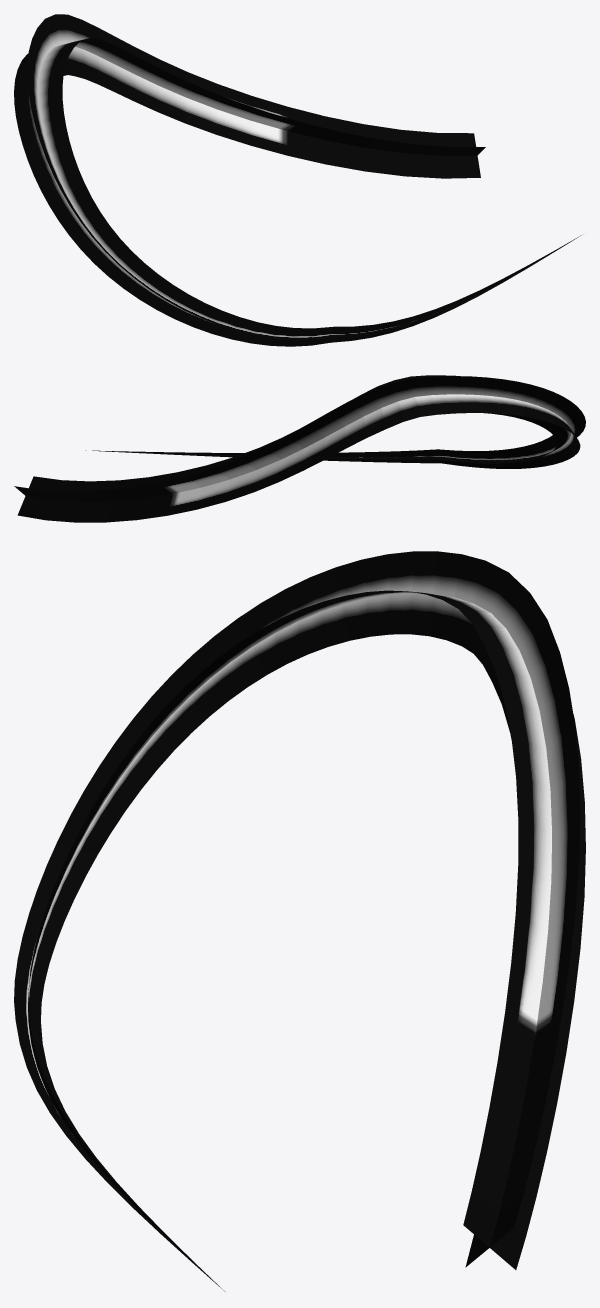
Rendered from TypeZero5.fbx.
3 views of the same model, one above another, from view 1: azimuth 30°, elevation 25°; view 2: azimuth 150°, elevation 25°; view 3: azimuth 270°, elevation 25° (orthographic). The views are drawn at different scales.
Visible parts, largest first — view 1: SM_WEP_Eff_D61NJ1_A_05.mo; view 2: SM_WEP_Eff_D61NJ1_A_05.mo; view 3: SM_WEP_Eff_D61NJ1_A_05.mo.
Boxes of the visible parts, x1,y1,x2,y2 form: SM_WEP_Eff_D61NJ1_A_05.mo: [14, 14, 581, 346]; SM_WEP_Eff_D61NJ1_A_05.mo: [14, 375, 585, 522]; SM_WEP_Eff_D61NJ1_A_05.mo: [14, 551, 585, 1291].
Size of the model in its own units: 965 by 444 by 590.
